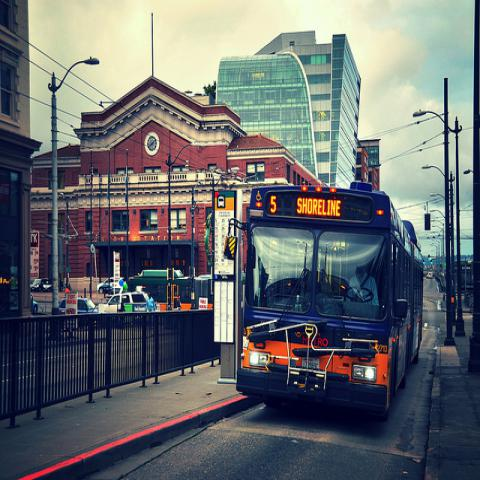bus: (236, 186, 423, 414)
car: (105, 291, 149, 311), (60, 298, 98, 313), (97, 276, 123, 295), (31, 278, 53, 294), (32, 300, 39, 315), (428, 272, 433, 280)
